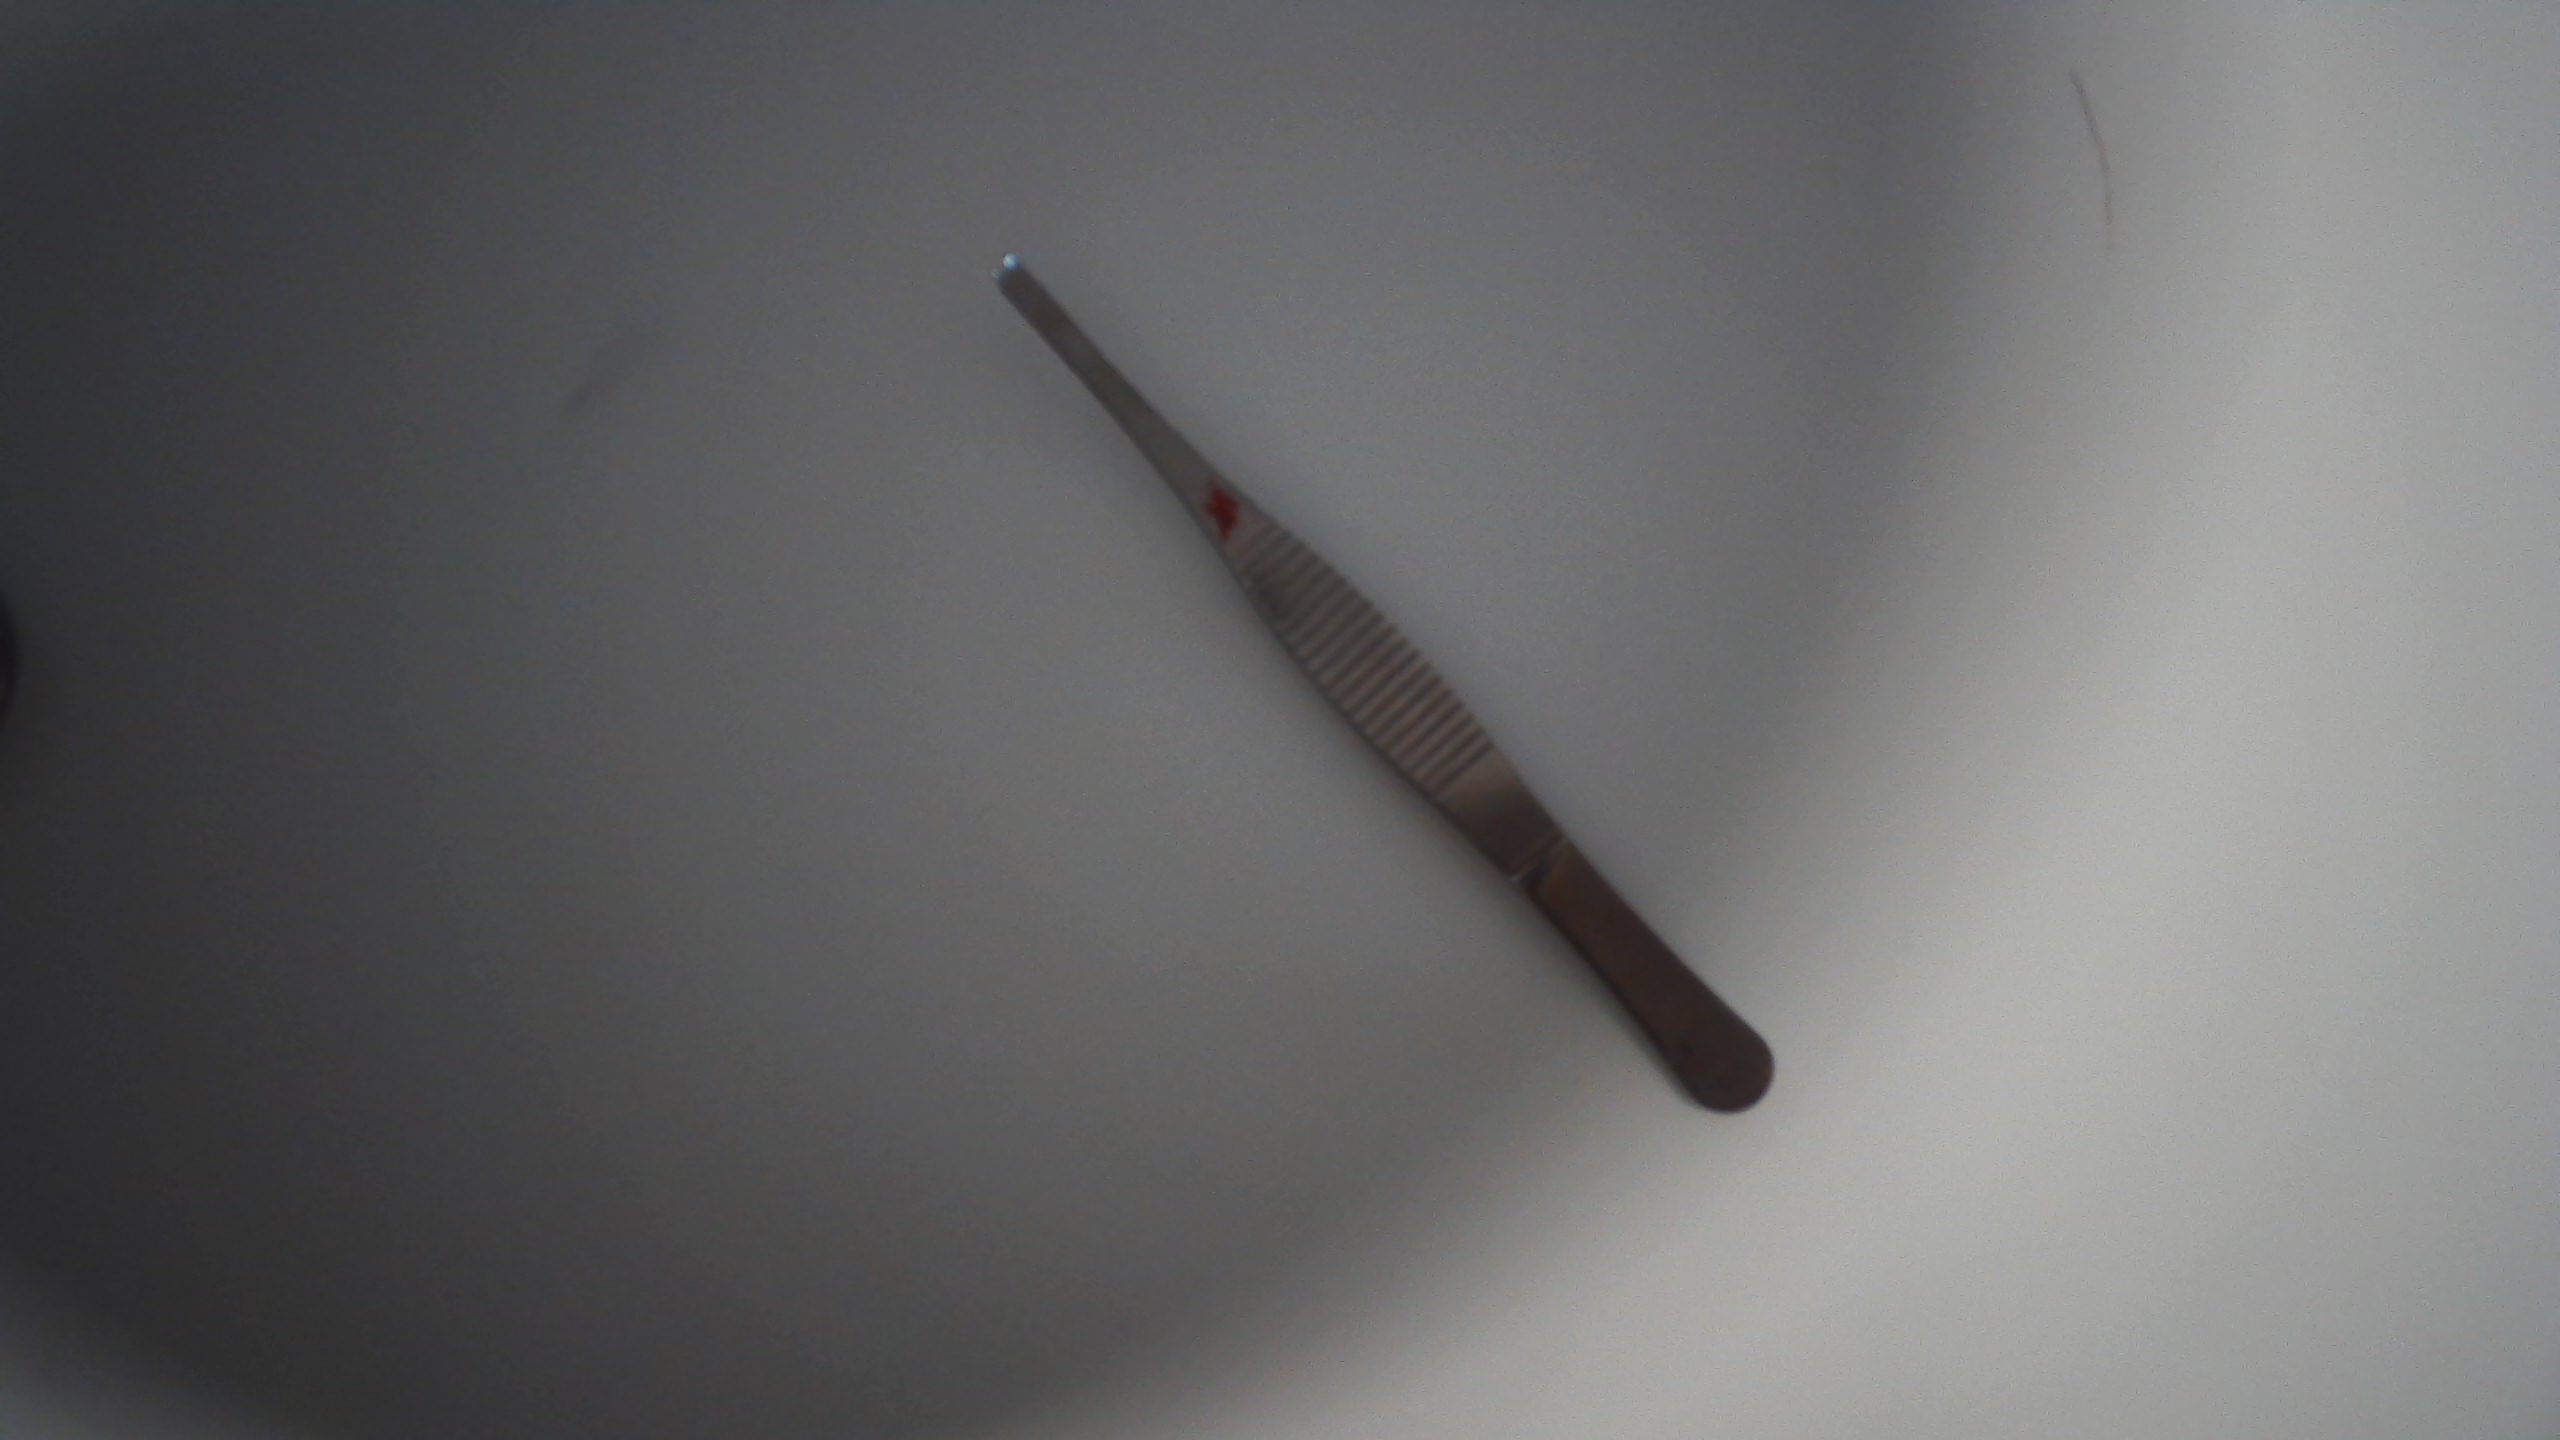Stain: (1196, 476, 1243, 538)
